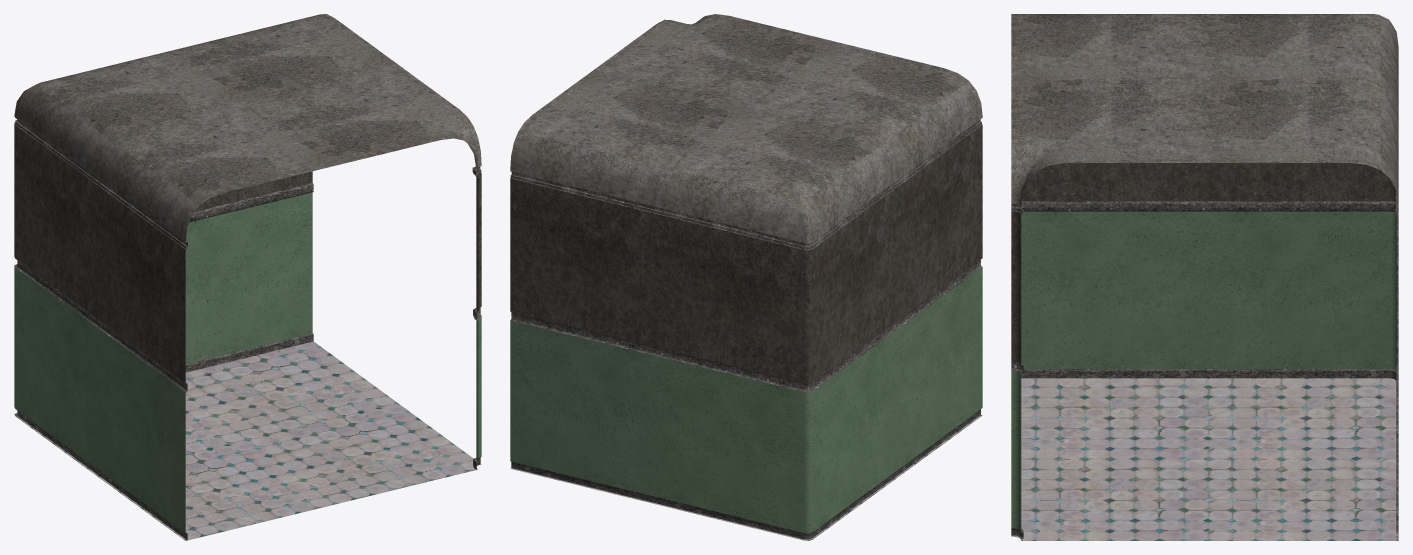
Rendered from CorridorBlockCorner.FBX.
3 views of the same model, side by side, from view 1: azimuth 30°, elevation 25°; view 2: azimuth 150°, elevation 25°; view 3: azimuth 270°, elevation 25° (orthographic). The views are drawn at different scales.
Parts seen in each view (by area): view 1: Corner; view 2: Corner; view 3: Corner.
Part boxes in pixels (left/top/right/bottom): Corner: left=14, top=14, right=481, bottom=540; Corner: left=510, top=14, right=982, bottom=540; Corner: left=1011, top=14, right=1398, bottom=540.
Size of the model in its own units: 76.77 by 82.67 by 76.77.
